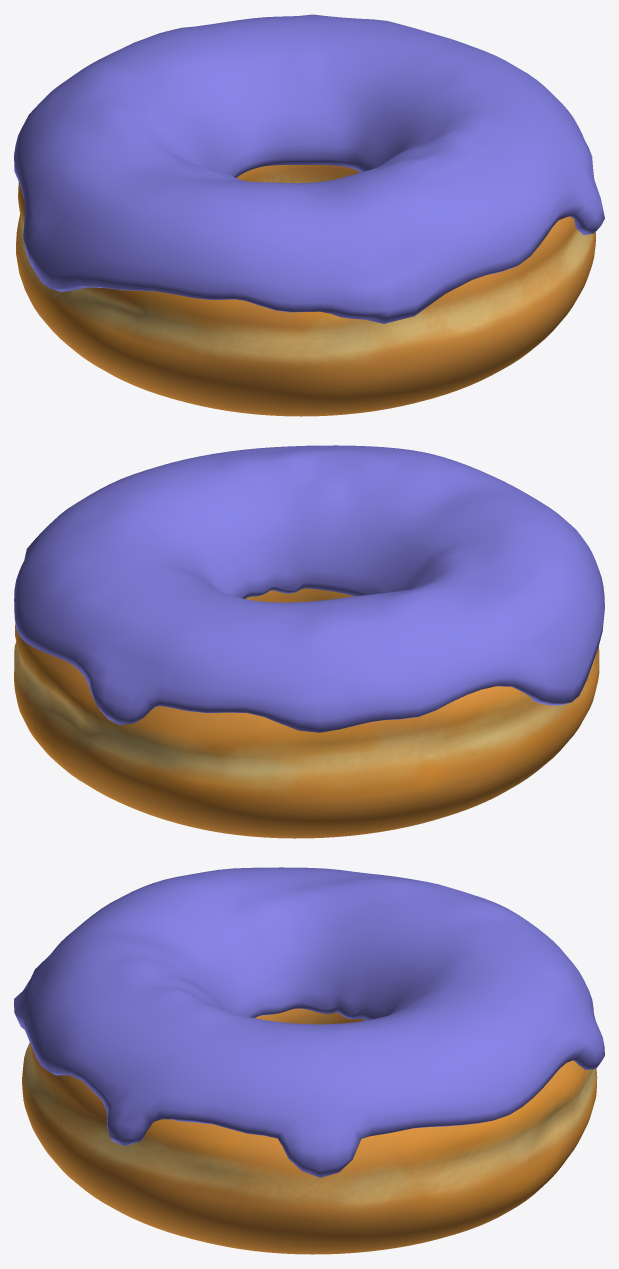
3 renders of one model, top to bottom at view 1: azimuth 30°, elevation 25°; view 2: azimuth 150°, elevation 25°; view 3: azimuth 270°, elevation 25°, orthographic. The views are drawn at different scales.
Parts seen in each view (by area): view 1: Icing, Donut; view 2: Icing, Donut; view 3: Icing, Donut.
Boxes of the visible parts, <box> form: Icing: <box>14,14,604,323</box>; Donut: <box>16,165,595,416</box>; Icing: <box>14,445,604,732</box>; Donut: <box>14,588,599,838</box>; Icing: <box>14,867,604,1177</box>; Donut: <box>22,1008,597,1254</box>.
Bounding box in the file's own units: 0.0833 × 0.033 × 0.0819.
Materials: 2 (1 with a texture image).
